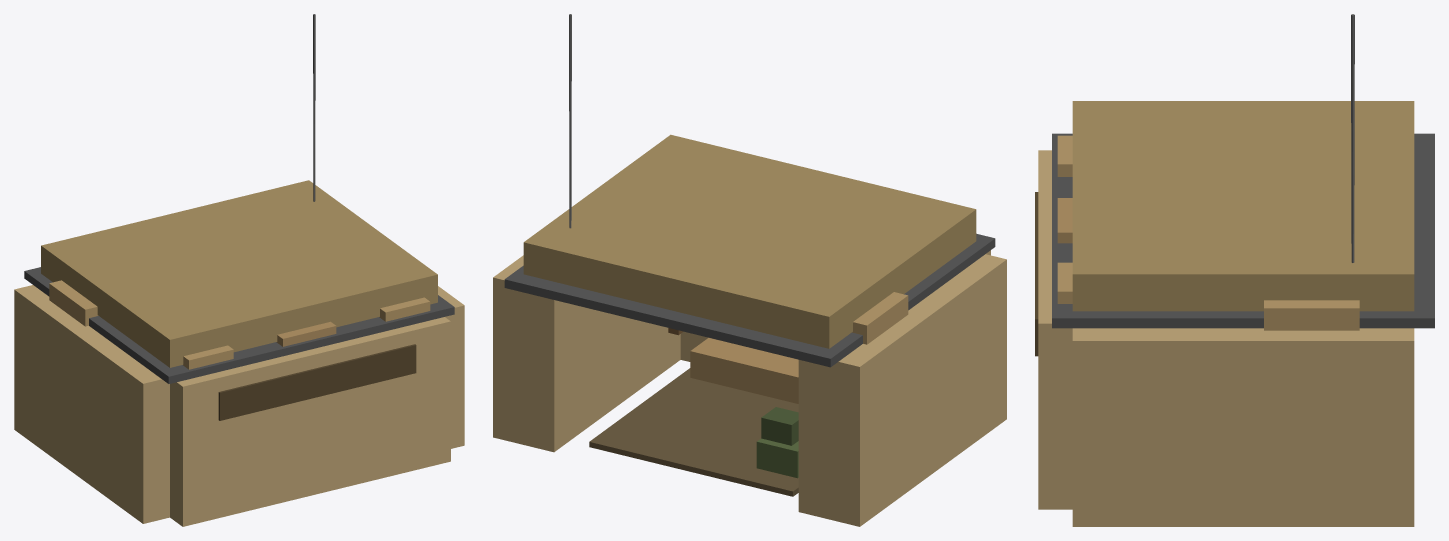
The model's file is sandbag-bunker.glb.
3 views of the same model, side by side, from view 1: azimuth 30°, elevation 25°; view 2: azimuth 150°, elevation 25°; view 3: azimuth 270°, elevation 25° (orthographic). The views are drawn at different scales.
Parts seen in each view (by area): view 1: Mesh_RoofSandbags, Mesh_FrontWall, Mesh_LeftWall, Mesh_FiringSlot, Mesh_RoofPSP, Mesh_RightWall, Mesh_LeftWallBag, Mesh_FrontBagCenter, Mesh_FrontBagLeft, Mesh_FrontBagRight, Mesh_Antenna; view 2: Mesh_RoofSandbags, Mesh_LeftWall, Mesh_RightWall, Mesh_Floor, Mesh_RoofPSP, Mesh_FiringStep, Mesh_LeftWallBag, Mesh_AmmoCrate, Mesh_AmmoCrateSmall, Mesh_Antenna; view 3: Mesh_RoofSandbags, Mesh_RightWall, Mesh_RoofPSP, Mesh_FrontWall, Mesh_RightWallBag, Mesh_Antenna, Mesh_FrontBagCenter, Mesh_FrontBagLeft, Mesh_FrontBagRight, Mesh_FiringSlot.
Part boxes in pixels (left/top/right/bottom): Mesh_RoofSandbags: left=41, top=180, right=437, bottom=367; Mesh_FrontWall: left=170, top=317, right=450, bottom=526; Mesh_LeftWall: left=14, top=285, right=169, bottom=523; Mesh_FiringSlot: left=218, top=344, right=416, bottom=420; Mesh_RoofPSP: left=24, top=267, right=454, bottom=383; Mesh_RightWall: left=438, top=286, right=464, bottom=448; Mesh_LeftWallBag: left=49, top=280, right=98, bottom=326; Mesh_FrontBagCenter: left=276, top=321, right=336, bottom=346; Mesh_FrontBagLeft: left=183, top=345, right=233, bottom=369; Mesh_FrontBagRight: left=379, top=297, right=430, bottom=321; Mesh_Antenna: left=313, top=14, right=315, bottom=201; Mesh_RoofSandbags: left=523, top=134, right=976, bottom=348; Mesh_LeftWall: left=798, top=254, right=1006, bottom=526; Mesh_RightWall: left=493, top=255, right=680, bottom=452; Mesh_Floor: left=589, top=368, right=798, bottom=496; Mesh_RoofPSP: left=504, top=233, right=995, bottom=367; Mesh_FiringStep: left=690, top=337, right=798, bottom=403; Mesh_LeftWallBag: left=852, top=292, right=908, bottom=344; Mesh_AmmoCrate: left=756, top=438, right=798, bottom=478; Mesh_AmmoCrateSmall: left=761, top=407, right=798, bottom=445; Mesh_Antenna: left=569, top=14, right=571, bottom=228; Mesh_RoofSandbags: left=1072, top=101, right=1414, bottom=311; Mesh_RightWall: left=1072, top=328, right=1414, bottom=526; Mesh_RoofPSP: left=1052, top=133, right=1434, bottom=328; Mesh_FrontWall: left=1038, top=150, right=1072, bottom=509; Mesh_RightWallBag: left=1264, top=300, right=1359, bottom=330; Mesh_Antenna: left=1351, top=14, right=1354, bottom=262; Mesh_FrontBagCenter: left=1057, top=198, right=1072, bottom=243; Mesh_FrontBagLeft: left=1057, top=135, right=1072, bottom=176; Mesh_FrontBagRight: left=1057, top=262, right=1072, bottom=303; Mesh_FiringSlot: left=1035, top=192, right=1038, bottom=356.
Size of the model in its own units: 3.6 by 3.91 by 2.92.
